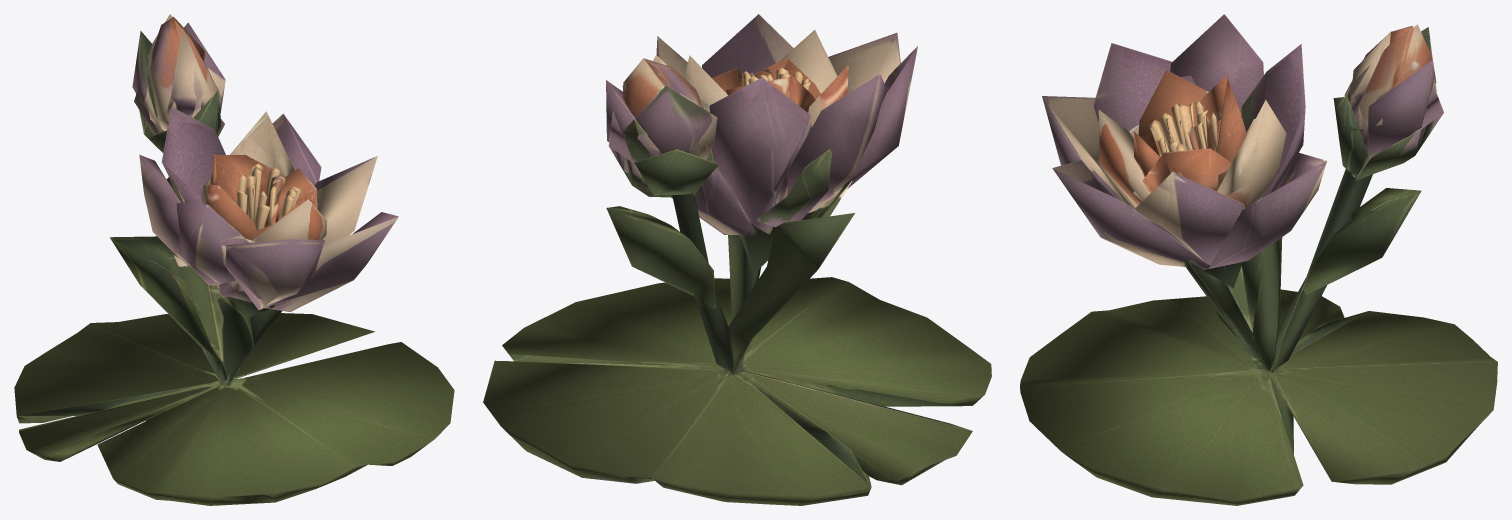
Rendered from AW-VAR-FLORA-004-v0.2.glb.
3 views of the same model, side by side, from view 1: azimuth 30°, elevation 25°; view 2: azimuth 150°, elevation 25°; view 3: azimuth 270°, elevation 25° (orthographic). The views are drawn at different scales.
Visible parts, largest first — view 1: AW-VAR-FLORA-004_meter_ground_pivot; view 2: AW-VAR-FLORA-004_meter_ground_pivot; view 3: AW-VAR-FLORA-004_meter_ground_pivot.
Part boxes in pixels (left/top/right/bottom): AW-VAR-FLORA-004_meter_ground_pivot: left=14, top=14, right=454, bottom=505; AW-VAR-FLORA-004_meter_ground_pivot: left=483, top=14, right=991, bottom=505; AW-VAR-FLORA-004_meter_ground_pivot: left=1020, top=14, right=1497, bottom=505.
Bounding box in the file's own units: 0.3495 × 0.3 × 0.3316.
1 material, 1 textured.
